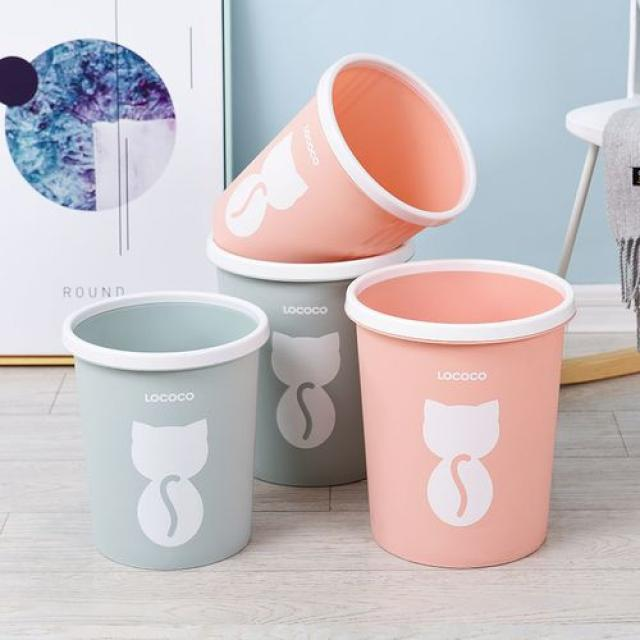dustbin: (342, 258, 582, 575), (58, 287, 275, 578), (210, 49, 478, 260), (208, 239, 414, 491)
